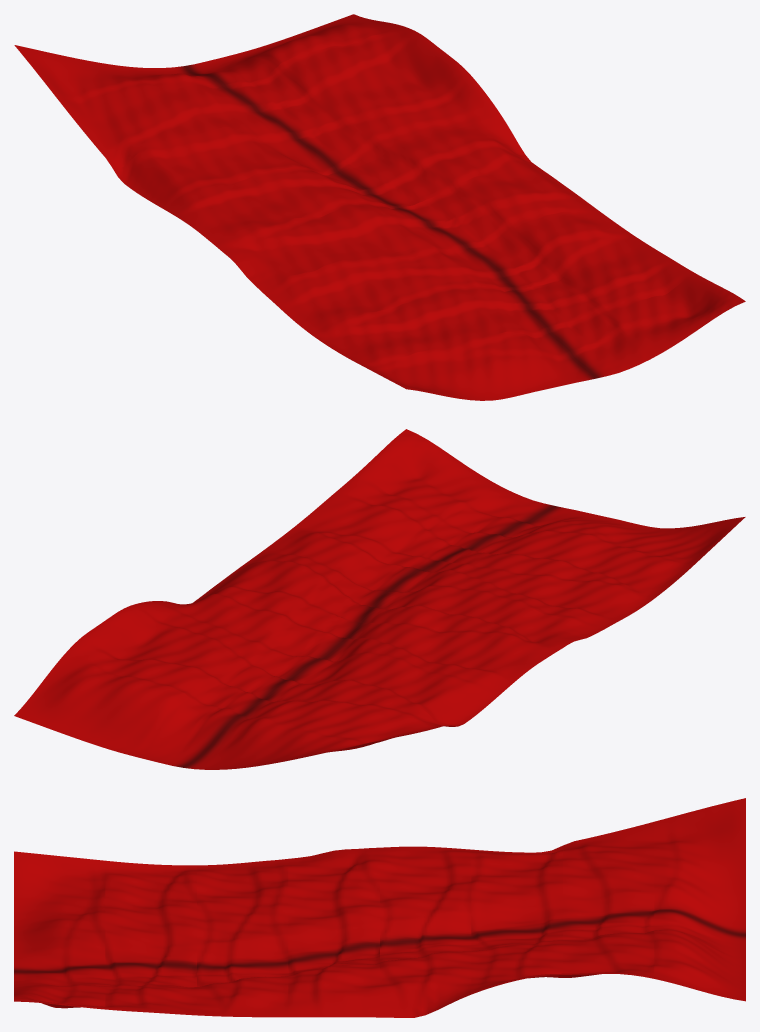
The model's file is bedrock_floor.glb.
3 views of the same model, one above another, from view 1: azimuth 30°, elevation 25°; view 2: azimuth 150°, elevation 25°; view 3: azimuth 270°, elevation 25° (orthographic). The views are drawn at different scales.
Visible parts, largest first — view 1: BedrockFloor_02, BedrockFloor_01, BedrockFloor_05, BedrockFloor_07, BedrockFloor_04, BedrockFloor_06, BedrockFloor_03, BedrockFloor_00; view 2: BedrockFloor_00, BedrockFloor_06, BedrockFloor_02, BedrockFloor_07, BedrockFloor_01, BedrockFloor_03, BedrockFloor_05, BedrockFloor_04; view 3: BedrockFloor_00, BedrockFloor_04, BedrockFloor_03, BedrockFloor_05, BedrockFloor_07, BedrockFloor_06, BedrockFloor_01, BedrockFloor_02.
Boxes of the visible parts, <box> form: BedrockFloor_02: <box>112,57,500,207</box>; BedrockFloor_01: <box>63,26,451,168</box>; BedrockFloor_05: <box>259,210,647,332</box>; BedrockFloor_07: <box>358,274,745,400</box>; BedrockFloor_04: <box>210,167,598,289</box>; BedrockFloor_06: <box>308,244,696,364</box>; BedrockFloor_03: <box>161,114,549,241</box>; BedrockFloor_00: <box>14,14,401,110</box>; BedrockFloor_00: <box>14,656,400,769</box>; BedrockFloor_06: <box>308,473,696,603</box>; BedrockFloor_02: <box>112,601,500,726</box>; BedrockFloor_07: <box>357,429,745,563</box>; BedrockFloor_01: <box>63,616,450,740</box>; BedrockFloor_03: <box>162,582,549,693</box>; BedrockFloor_05: <box>259,515,647,632</box>; BedrockFloor_04: <box>210,553,598,655</box>; BedrockFloor_00: <box>654,798,745,1001</box>; BedrockFloor_04: <box>288,847,379,1017</box>; BedrockFloor_03: <box>380,846,471,1017</box>; BedrockFloor_05: <box>197,859,288,1017</box>; BedrockFloor_07: <box>14,851,105,1009</box>; BedrockFloor_06: <box>105,860,196,1015</box>; BedrockFloor_01: <box>563,822,654,978</box>; BedrockFloor_02: <box>471,845,562,994</box>.
Size of the model in its own units: 64 by 16.79 by 128.
